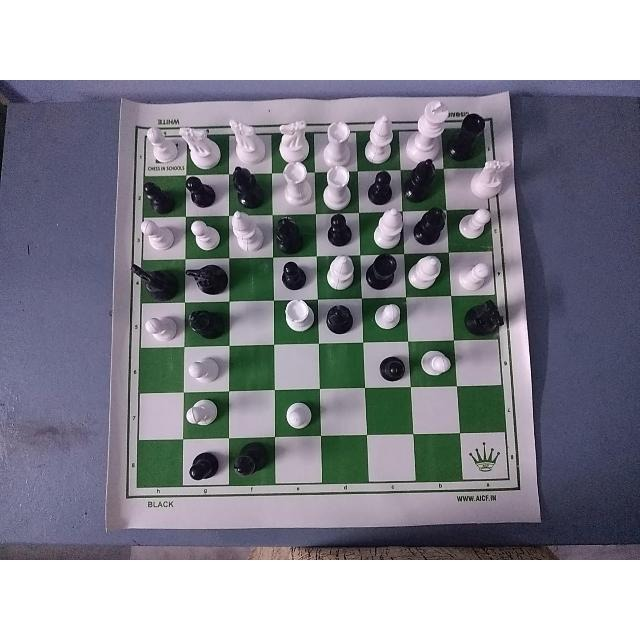black-bishop: (228, 164, 270, 214), (230, 440, 271, 485), (184, 304, 231, 342), (408, 208, 452, 247), (319, 298, 359, 340), (401, 161, 443, 201), (273, 215, 311, 250)
black-knight: (464, 300, 512, 343), (130, 257, 180, 295), (185, 257, 230, 297)
black-pawn: (183, 169, 223, 211), (137, 174, 176, 213), (186, 449, 222, 491), (321, 210, 357, 248), (275, 256, 312, 292), (364, 167, 396, 205), (380, 349, 406, 388)
black-rook: (455, 106, 488, 156), (365, 253, 399, 294)
white-bishop: (359, 112, 399, 161), (363, 206, 403, 251), (407, 255, 451, 293), (317, 253, 359, 292), (232, 215, 266, 251)
white-king: (405, 100, 449, 152)
white-knight: (178, 118, 220, 168), (463, 154, 512, 196), (224, 121, 270, 155), (275, 123, 314, 161)
white-pawn: (136, 117, 176, 169), (277, 393, 319, 437), (417, 339, 455, 382), (367, 297, 409, 334), (186, 356, 226, 393), (184, 399, 222, 436), (137, 219, 177, 251), (459, 206, 497, 238), (144, 306, 177, 342), (458, 261, 494, 293), (186, 219, 222, 249)
white-rook: (277, 160, 313, 212), (276, 296, 317, 338), (318, 162, 354, 201), (322, 118, 354, 161)
